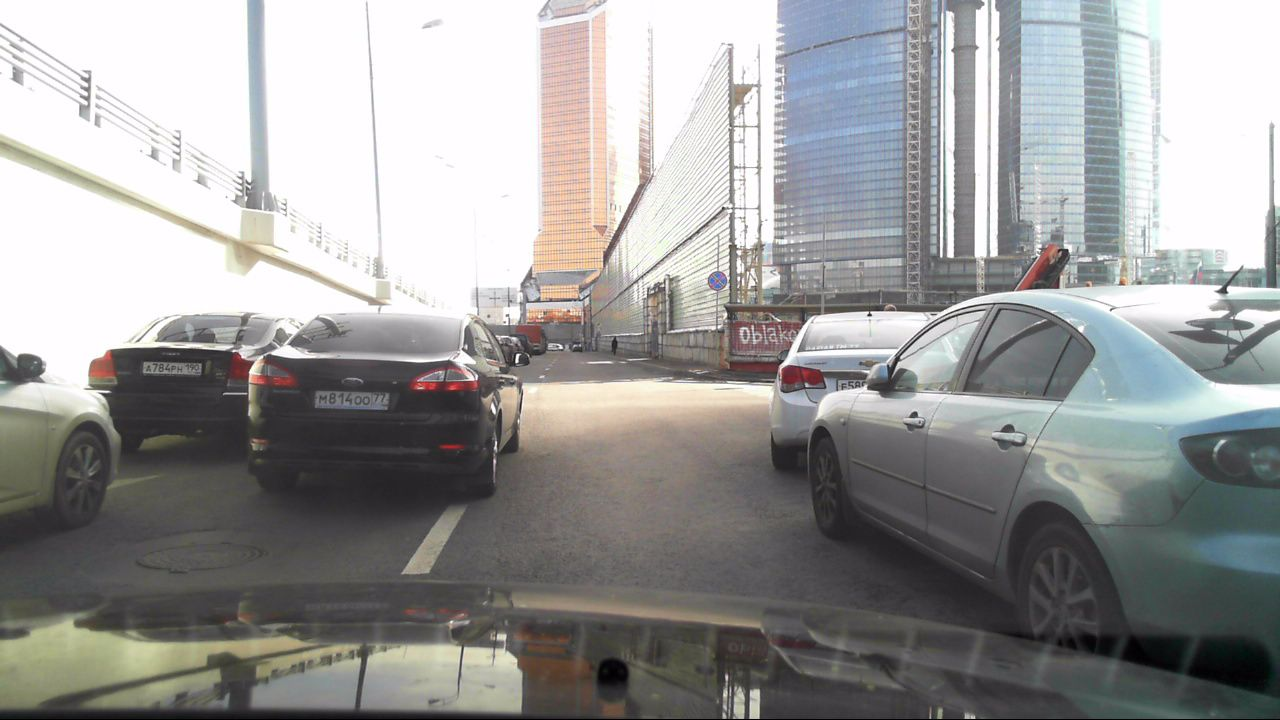No Parking: (706, 269, 728, 292)
